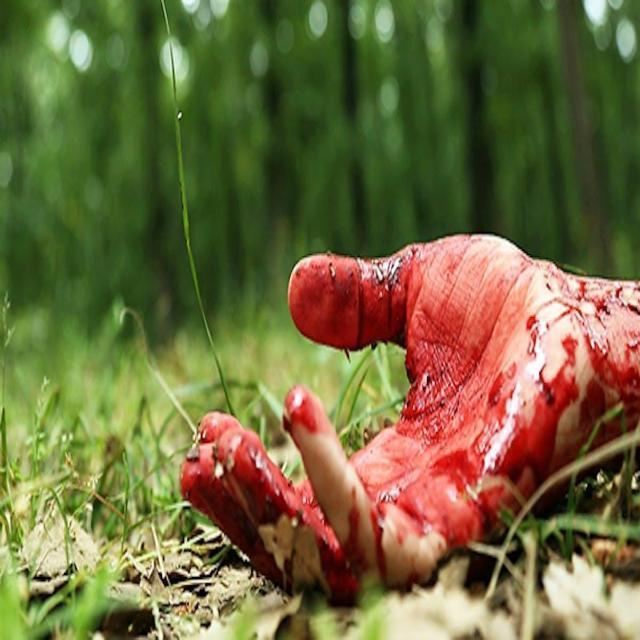flood: (125, 169, 640, 576)
